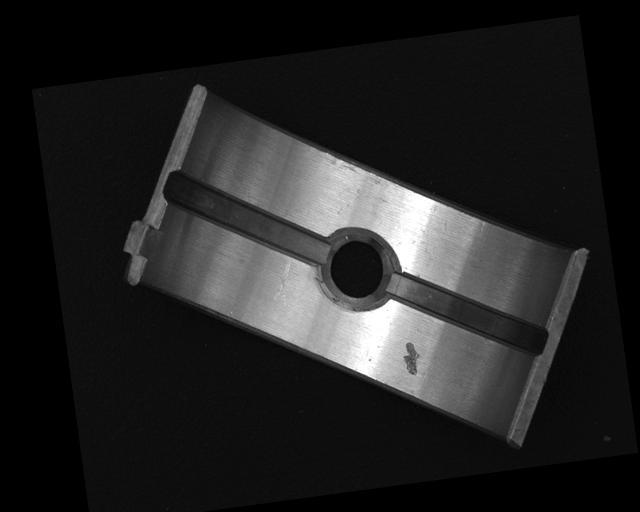bruise: (400, 339, 425, 378)
gap: (163, 151, 328, 285), (385, 255, 550, 375)
hole: (318, 228, 394, 315)
nick: (269, 258, 297, 307)
